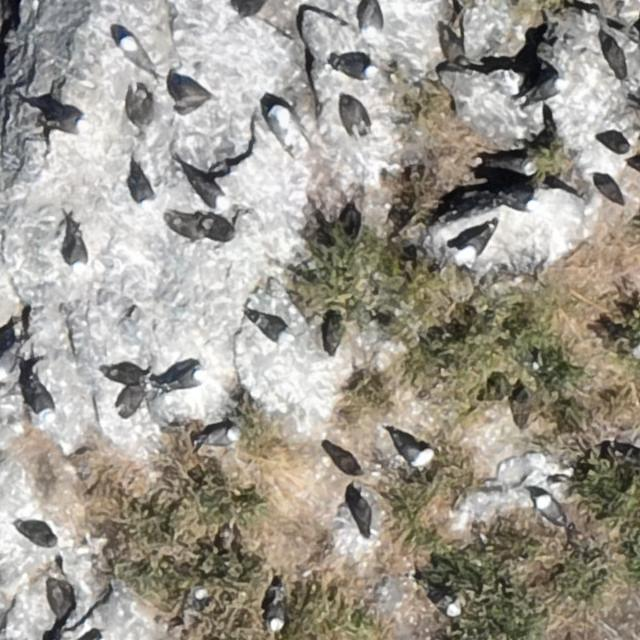umineko: (190, 166, 231, 213), (26, 368, 56, 430), (423, 579, 469, 618), (455, 227, 494, 266), (250, 311, 296, 344), (120, 35, 156, 76), (330, 54, 381, 80), (525, 76, 570, 105), (1, 332, 27, 381), (395, 434, 436, 465), (126, 165, 154, 210), (49, 107, 93, 134), (496, 154, 542, 179), (167, 362, 211, 388), (536, 496, 562, 525), (106, 366, 147, 384), (204, 429, 236, 448), (364, 5, 381, 37), (268, 598, 284, 631), (70, 238, 86, 270)
